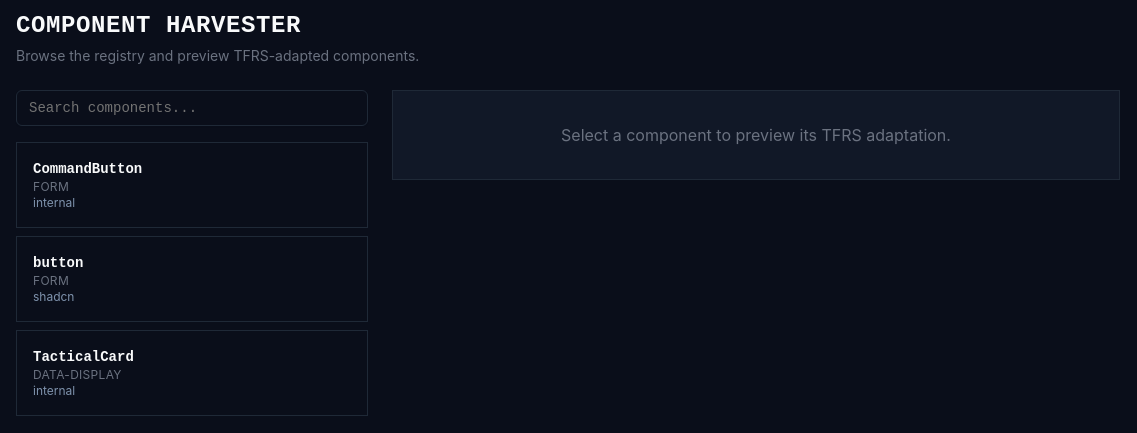
Scenario: ComponentHarvester › adapts and previews the selected component
Click the heading "CommandButton": [88, 169] box [33,161,142,177]
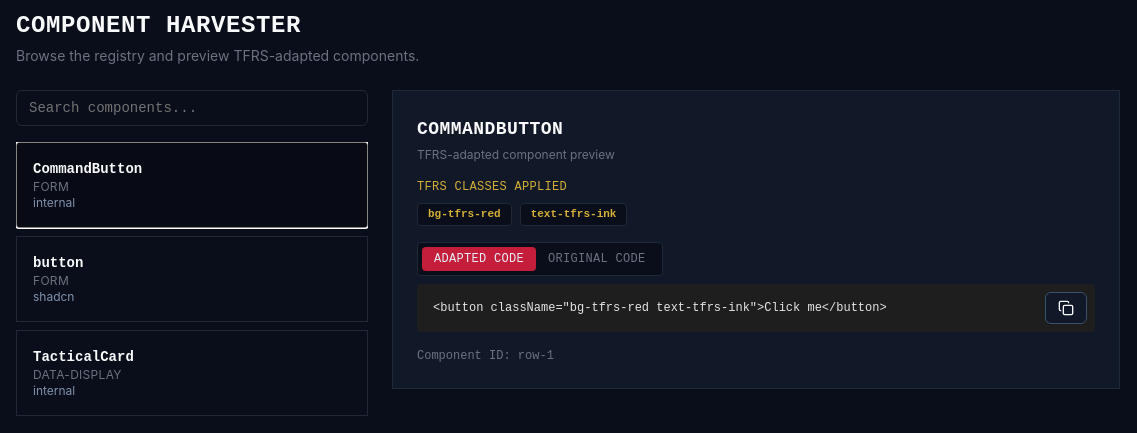
Expected: the text "bg-tfrs-red" is shown, [417,203,512,226]
